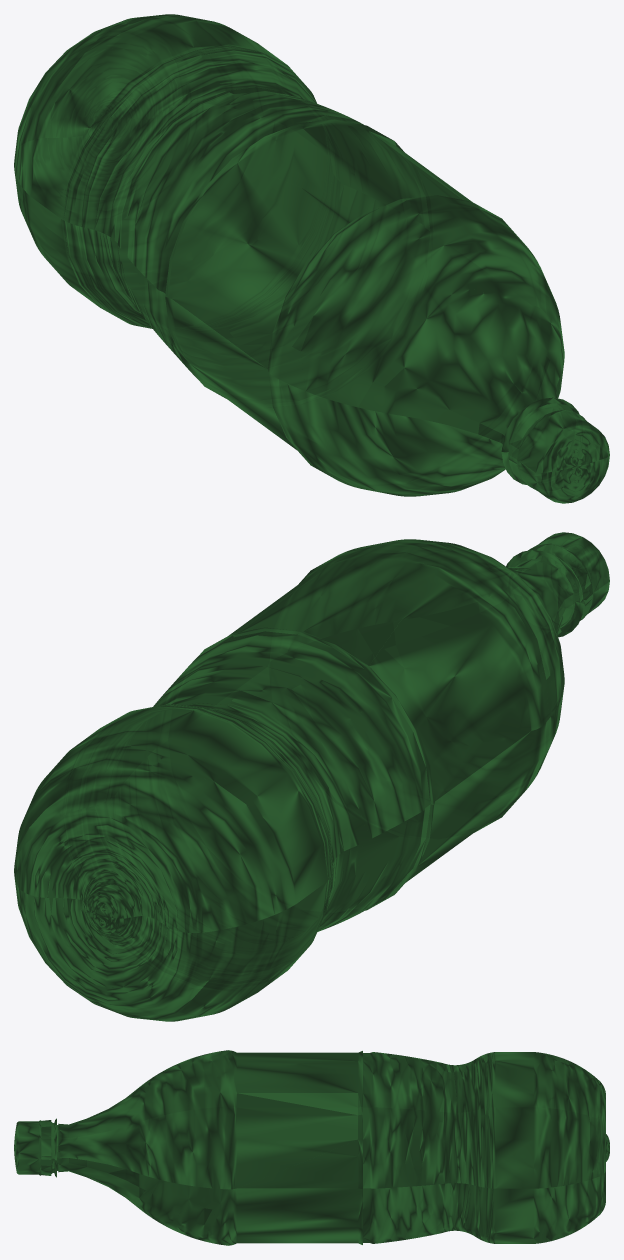
File: model_align.obj
3 renders of one model, top to bottom at view 1: azimuth 30°, elevation 25°; view 2: azimuth 150°, elevation 25°; view 3: azimuth 270°, elevation 25°, orthographic. The views are drawn at different scales.
Size of the model in its own units: 0.0464 by 0.0464 by 0.1408.
